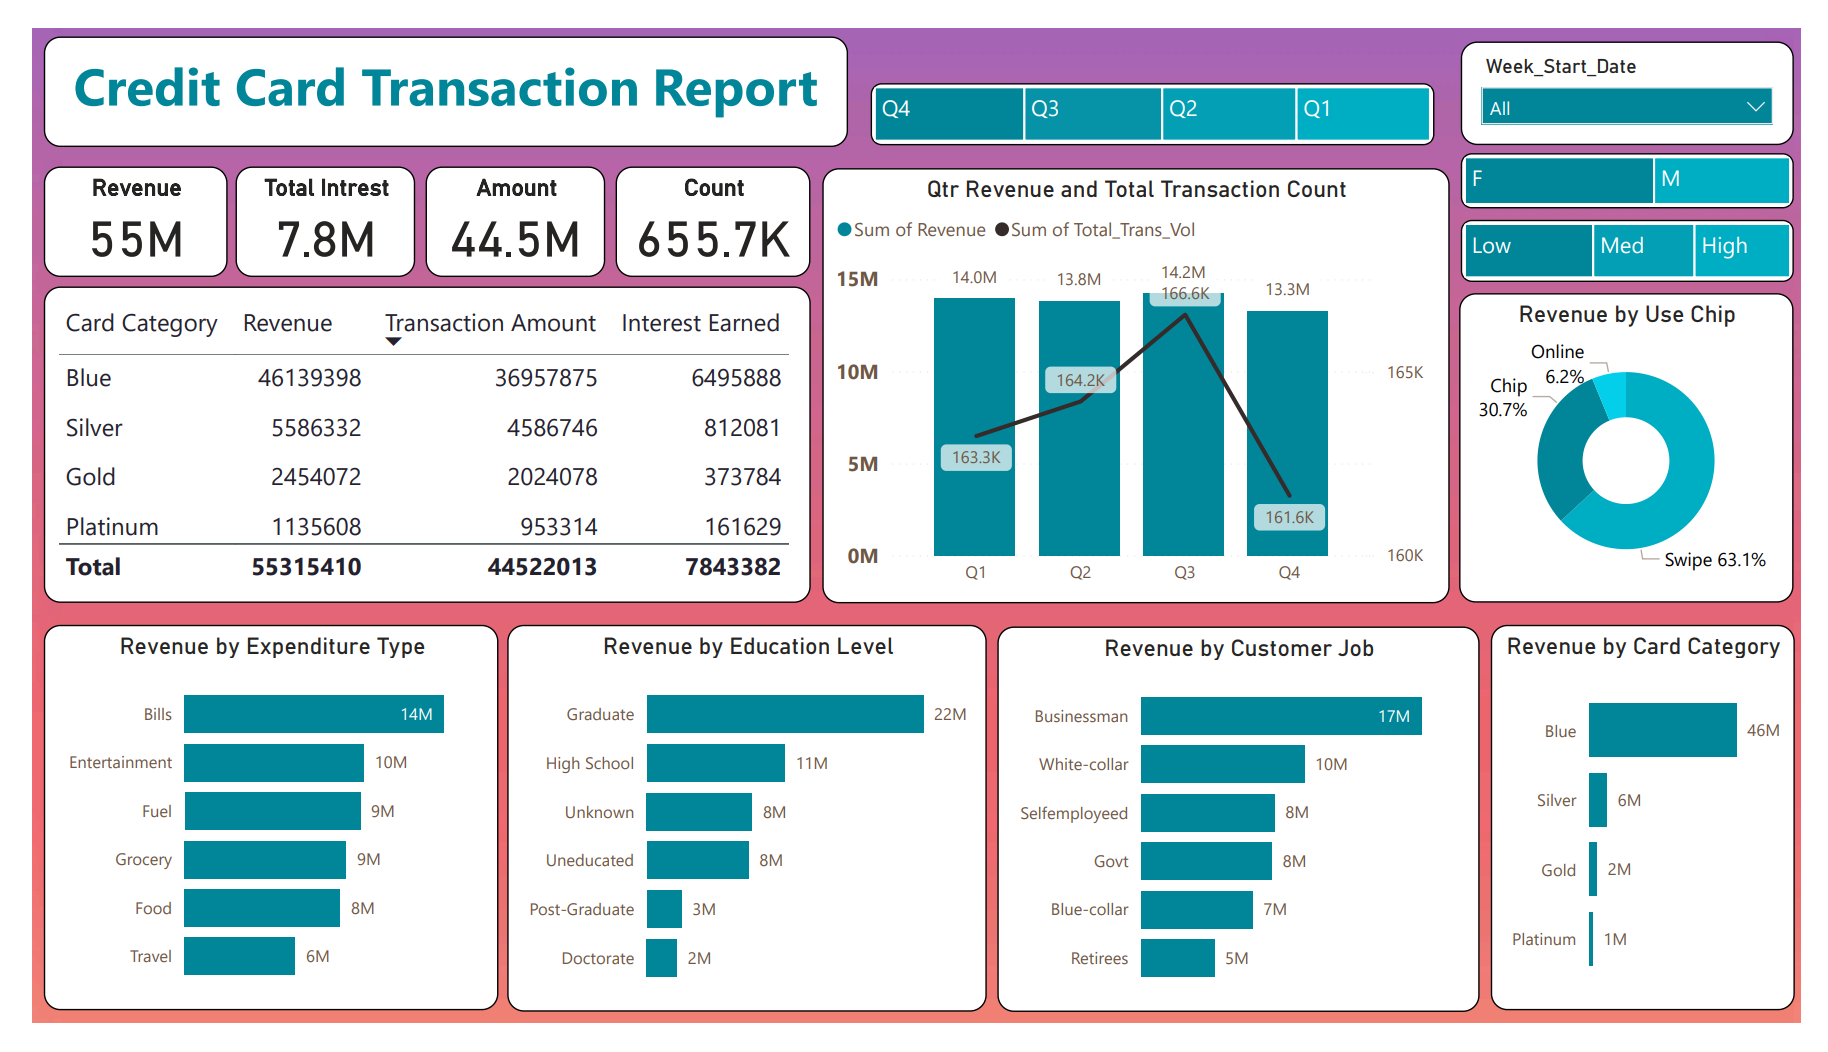

What the dashboard file says about the page in this screenshot:
{"tool":"powerbi","page":{"name":"CC Transaction","canvas":[1280,720],"ordinal":1},"visuals":[{"type":"textbox","box":[8.2,5.5,581.8,79.6],"z":0},{"type":"lineStackedColumnComboChart","title":"Qtr Revenue and Total Transaction Count","fields":{"Category":["credit_card.Qtr"],"Y":["Sum(credit_card.Revenue)"],"Y2":["Sum(credit_card.Total_Trans_Vol)"]},"box":[571.9,101.3,453.6,314.9],"z":1000},{"type":"clusteredBarChart","title":"Revenue by Expenditure Type","fields":{"Y":["Sum(credit_card.Revenue)"],"Category":["credit_card.Exp Type"]},"box":[8.4,431.9,329.4,278.7],"z":2000},{"type":"clusteredBarChart","title":"Revenue by Education Level","fields":{"Y":["Sum(credit_card.Revenue)"],"Category":["customer.Education_Level"]},"box":[344.4,432.2,347.2,279.9],"z":3000},{"type":"clusteredBarChart","title":"Revenue by Customer Job","fields":{"Y":["Sum(credit_card.Revenue)"],"Category":["customer.Customer_Job"]},"box":[698.5,433.6,348.5,278.6],"z":4000},{"type":"clusteredBarChart","title":"Revenue by Card Category","fields":{"Y":["Sum(credit_card.Revenue)"],"Category":["credit_card.Card_Category"]},"box":[1055.2,432.2,219.6,278.6],"z":5000},{"type":"donutChart","title":"Revenue by Use Chip","fields":{"Category":["credit_card.Use Chip"],"Y":["Sum(credit_card.Revenue)"]},"box":[1033.3,192.1,241.5,223.7],"z":6000},{"type":"tableEx","fields":{"Values":["credit_card.Card_Category","Sum(credit_card.Revenue)","Sum(credit_card.Total_Trans_Amt)","Sum(credit_card.Interest_Earned)"]},"box":[8.4,187,555,229.2],"z":7000},{"type":"card","title":"Revenue","fields":{"Values":["Sum(credit_card.Revenue)"]},"box":[8.4,100.1,132.7,79.6],"z":8000},{"type":"card","title":"Total Intrest","fields":{"Values":["Sum(credit_card.Interest_Earned)"]},"box":[147.2,99.9,130.3,79.6],"z":9000},{"type":"card","title":"Amount","fields":{"Values":["Sum(credit_card.Total_Trans_Amt)"]},"box":[284.7,99.9,130.3,79.6],"z":10000},{"type":"card","title":"Count","fields":{"Values":["Sum(credit_card.Total_Trans_Vol)"]},"box":[422.3,99.9,141.2,79.6],"z":11000},{"type":"slicer","fields":{"Values":["credit_card.Week_Start_Date"]},"box":[1033.9,9.7,241.3,74.8],"z":12000},{"type":"treemap","fields":{"Group":["credit_card.Qtr"],"Values":["Avg(credit_card.Client_Num)"]},"box":[606.8,39.8,407.8,44.6],"z":13000},{"type":"treemap","fields":{"Values":["CountNonNull(credit_card.Client_Num)"],"Group":["customer.Gender"]},"box":[1033.9,90.5,241.3,39.8],"z":14000},{"type":"treemap","fields":{"Values":["CountNonNull(credit_card.Client_Num)"],"Group":["customer.IncomeGroup"]},"box":[1033.9,138.7,241.3,44.6],"z":15000}]}

Visuals, with their boxes in screenshot pixels (x1, y1, x2, y2), scaled from the page's 1280x720 canvas onto the 1828x1052 screenshot:
textbox: detection(12, 8, 843, 124)
"Qtr Revenue and Total Transaction Count" lineStackedColumnComboChart: detection(817, 148, 1465, 608)
"Revenue by Expenditure Type" clusteredBarChart: detection(12, 631, 482, 1038)
"Revenue by Education Level" clusteredBarChart: detection(492, 631, 988, 1040)
"Revenue by Customer Job" clusteredBarChart: detection(998, 634, 1495, 1041)
"Revenue by Card Category" clusteredBarChart: detection(1507, 631, 1821, 1039)
"Revenue by Use Chip" donutChart: detection(1476, 281, 1821, 608)
tableEx - credit_card.Card_Category x Sum(credit_card.Revenue): detection(12, 273, 805, 608)
"Revenue" card: detection(12, 146, 202, 263)
"Total Intrest" card: detection(210, 146, 396, 262)
"Amount" card: detection(407, 146, 593, 262)
"Count" card: detection(603, 146, 805, 262)
slicer - credit_card.Week_Start_Date: detection(1477, 14, 1821, 123)
treemap - credit_card.Qtr x Avg(credit_card.Client_Num): detection(867, 58, 1449, 123)
treemap - CountNonNull(credit_card.Client_Num) x customer.Gender: detection(1477, 132, 1821, 190)
treemap - CountNonNull(credit_card.Client_Num) x customer.IncomeGroup: detection(1477, 203, 1821, 268)
